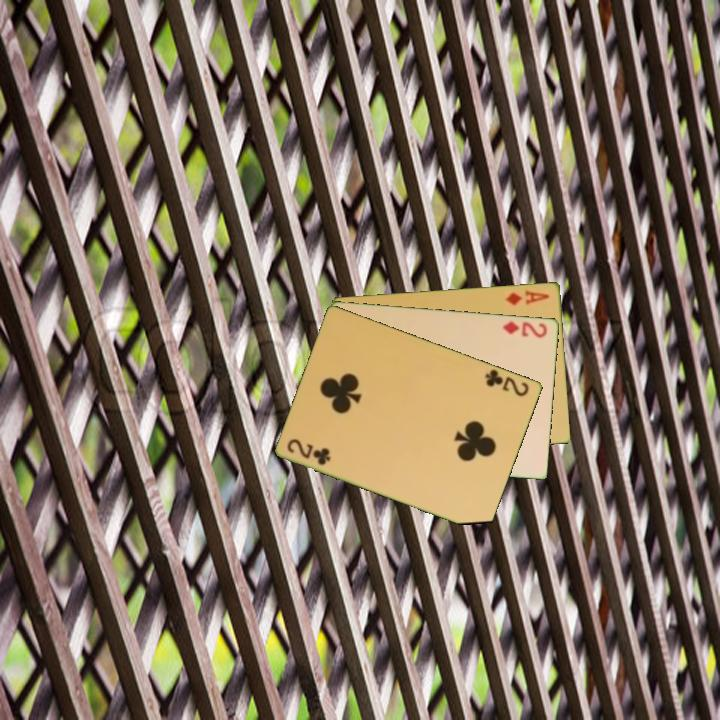2c: (482, 366, 532, 399), (284, 435, 334, 468)
2d: (500, 317, 550, 340)
Ad: (503, 286, 552, 308)
